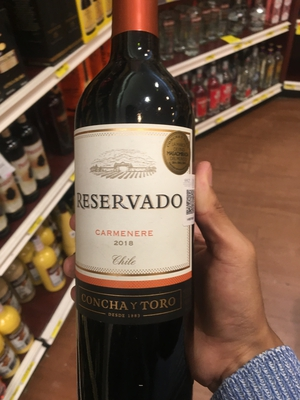reservado carmenere: (64, 5, 198, 400)
